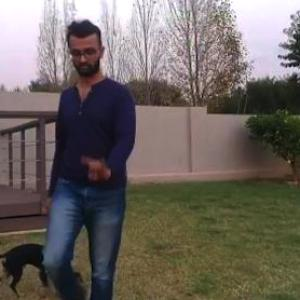takeoff-hand: (79, 152, 111, 185)
